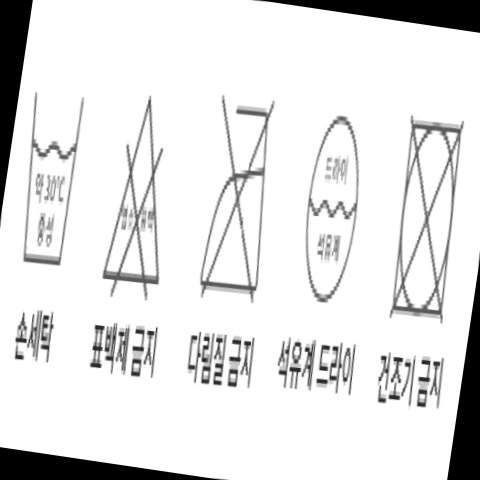30C: (3, 83, 103, 278)
DN_iron: (182, 86, 303, 317)
DN_tumble_dry: (370, 110, 480, 333)
dry_clean_petrol_only: (279, 112, 387, 313)
non_chlorine_bleach: (85, 87, 196, 308)
